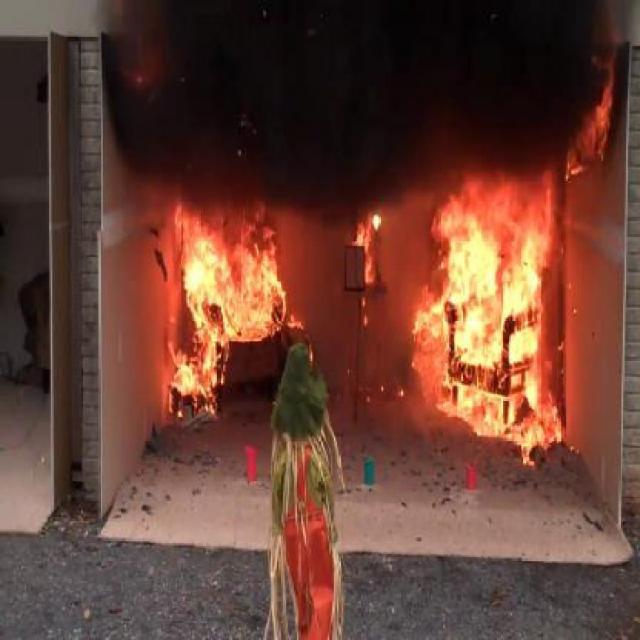fire: (421, 176, 574, 473), (164, 182, 298, 426)
smoke: (105, 26, 601, 154)
